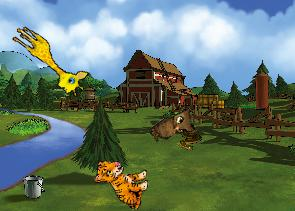giraffe: (3, 22, 93, 100)
owl: (147, 103, 201, 153)
tiger: (91, 157, 151, 210)
